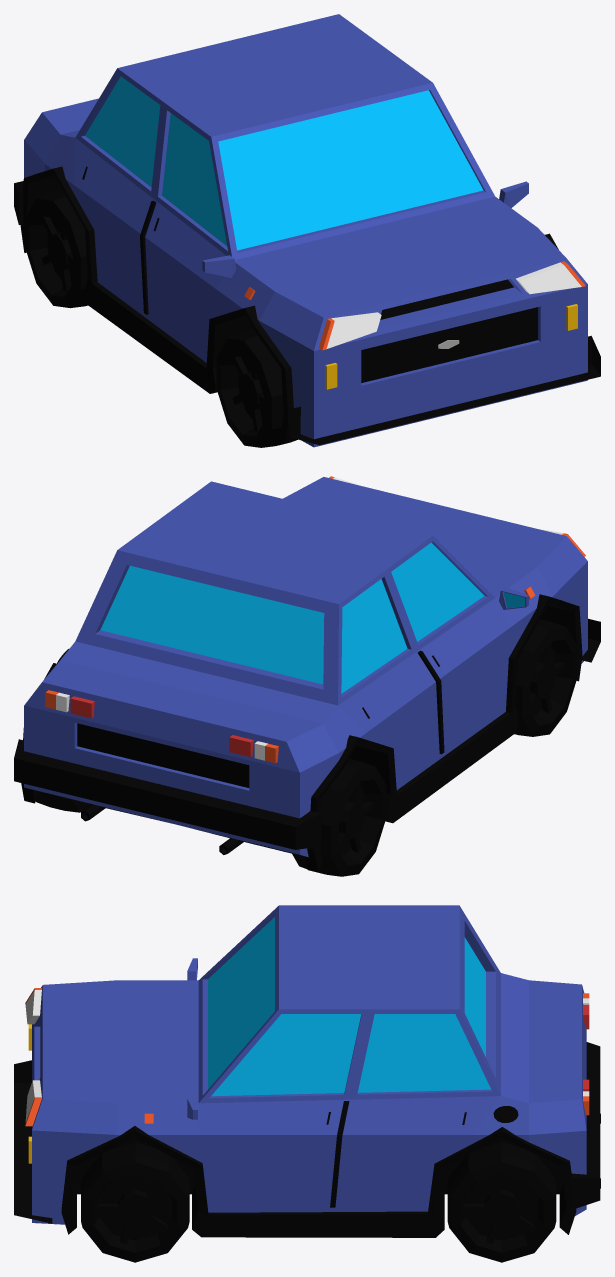
The model's file is low_poly_sedan.glb.
3 views of the same model, one above another, from view 1: azimuth 30°, elevation 25°; view 2: azimuth 150°, elevation 25°; view 3: azimuth 270°, elevation 25° (orthographic). The views are drawn at different scales.
Parts seen in each view (by area): view 1: carbody, frontright, backright; view 2: carbody, backright, frontright, backleft; view 3: carbody, backleft, frontleft.
Boxes of the visible parts, x1,y1,x2,y2 form: carbody: (14, 14, 600, 447); frontright: (216, 330, 297, 447); backright: (25, 190, 87, 308); carbody: (14, 476, 600, 872); backright: (292, 759, 386, 876); frontright: (514, 619, 577, 736); backleft: (36, 792, 90, 812); carbody: (14, 905, 600, 1237); backleft: (447, 1142, 556, 1262); frontleft: (81, 1142, 189, 1262).
Bounding box in the file's own units: 6.47 × 4.68 × 10.58.
Materials: 1 (1 with a texture image).
